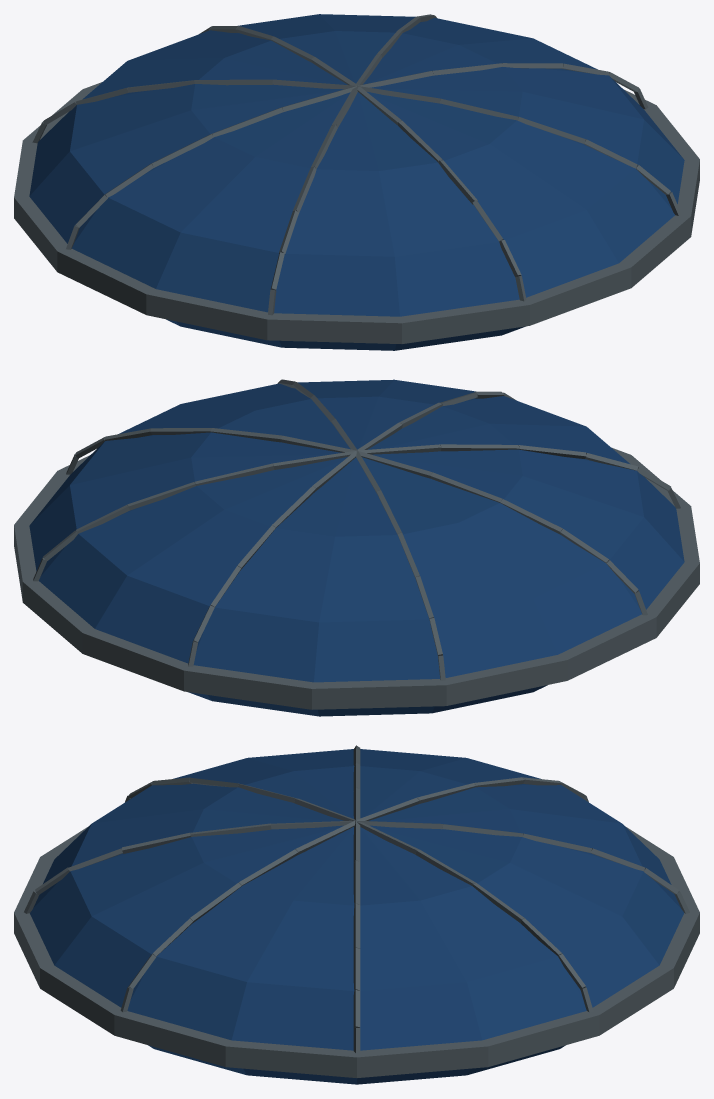
File: FluffSystem-01-Building-07-GlassRoof-3-01.glb
The picture shows the model from 3 angles, top to bottom: view 1: azimuth 30°, elevation 25°; view 2: azimuth 150°, elevation 25°; view 3: azimuth 270°, elevation 25°; orthographic projection.
Visible parts, largest first — view 1: FluffSystem-01-Building-07-GlassRoof-3-01; view 2: FluffSystem-01-Building-07-GlassRoof-3-01; view 3: FluffSystem-01-Building-07-GlassRoof-3-01.
Part boxes in pixels (bbox=[...]): FluffSystem-01-Building-07-GlassRoof-3-01: bbox=[14, 14, 699, 350]; FluffSystem-01-Building-07-GlassRoof-3-01: bbox=[14, 379, 699, 716]; FluffSystem-01-Building-07-GlassRoof-3-01: bbox=[14, 745, 699, 1084].
Size of the model in its own units: 60 by 18.28 by 60.
